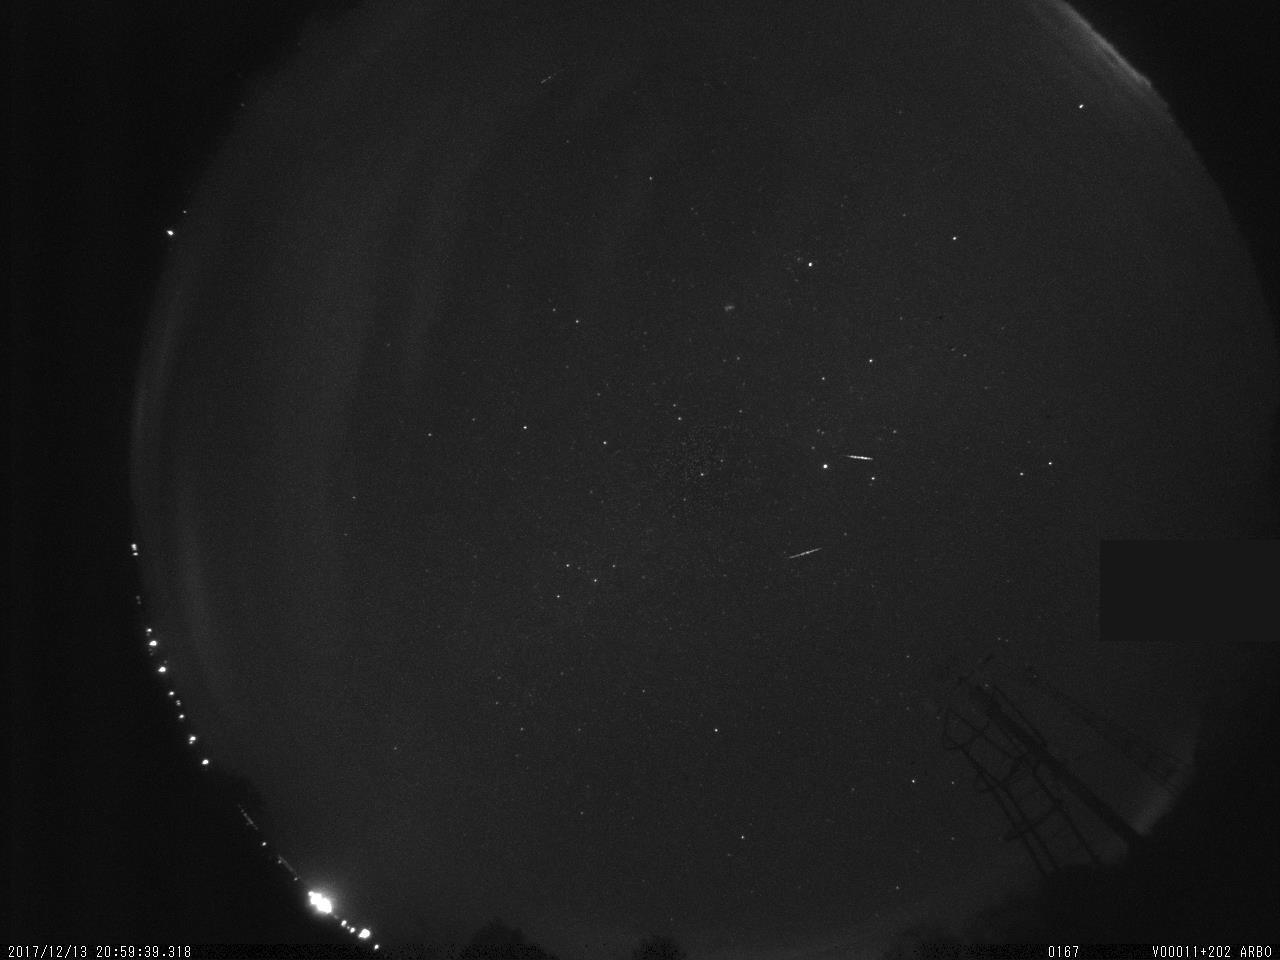Meteor: (785, 541, 827, 563), (839, 448, 877, 466)
